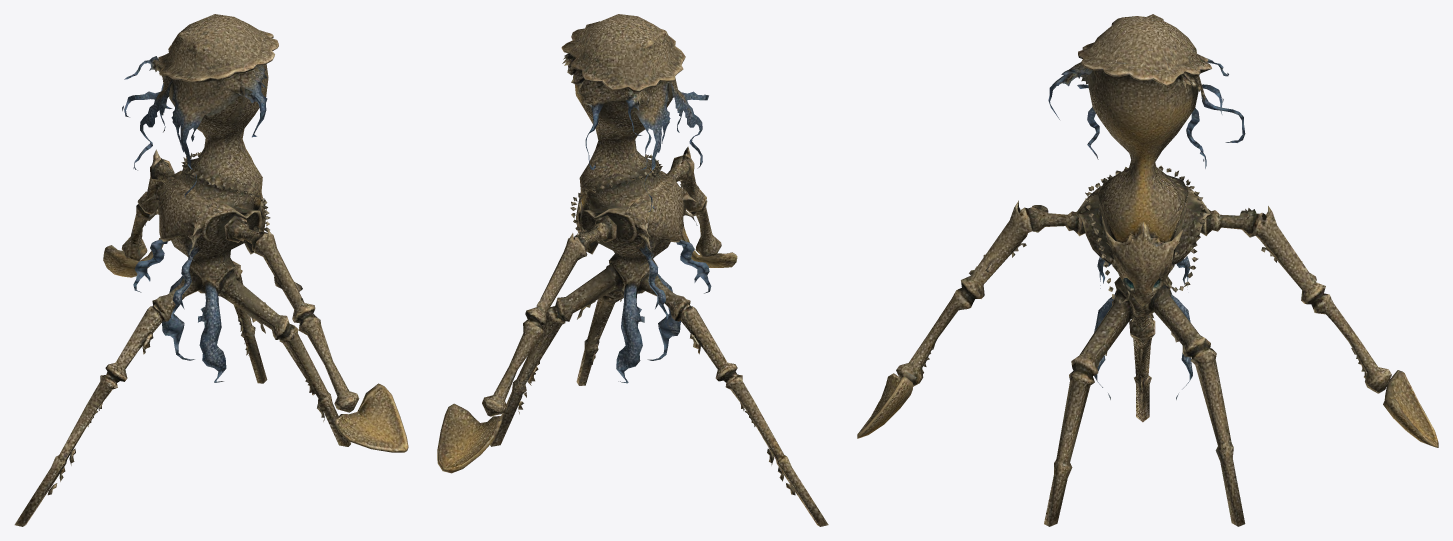
Rendered from hadal-sandglass-stalker-echo.glb.
The picture shows the model from 3 angles, left to right: view 1: azimuth 30°, elevation 25°; view 2: azimuth 150°, elevation 25°; view 3: azimuth 270°, elevation 25°; orthographic projection. The views are drawn at different scales.
Visible parts, largest first — view 1: tripo_node_57de3b84-9355-4f52-94a2-5ff81b853d07; view 2: tripo_node_57de3b84-9355-4f52-94a2-5ff81b853d07; view 3: tripo_node_57de3b84-9355-4f52-94a2-5ff81b853d07.
Boxes of the visible parts, left/top/right/bottom form: tripo_node_57de3b84-9355-4f52-94a2-5ff81b853d07: left=14, top=14, right=408, bottom=526; tripo_node_57de3b84-9355-4f52-94a2-5ff81b853d07: left=437, top=14, right=828, bottom=526; tripo_node_57de3b84-9355-4f52-94a2-5ff81b853d07: left=857, top=14, right=1438, bottom=526.
Size of the model in its own units: 0.6465 by 0.9551 by 0.998.
1 material, 1 textured.
